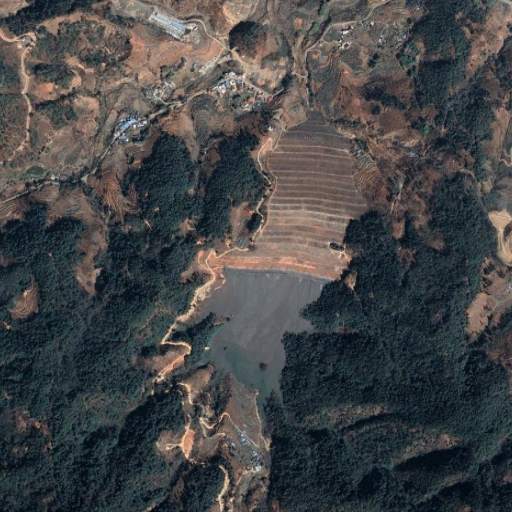tp: (182, 111, 366, 430)
